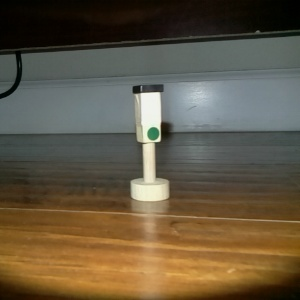traffic light green: (127, 83, 172, 203)
